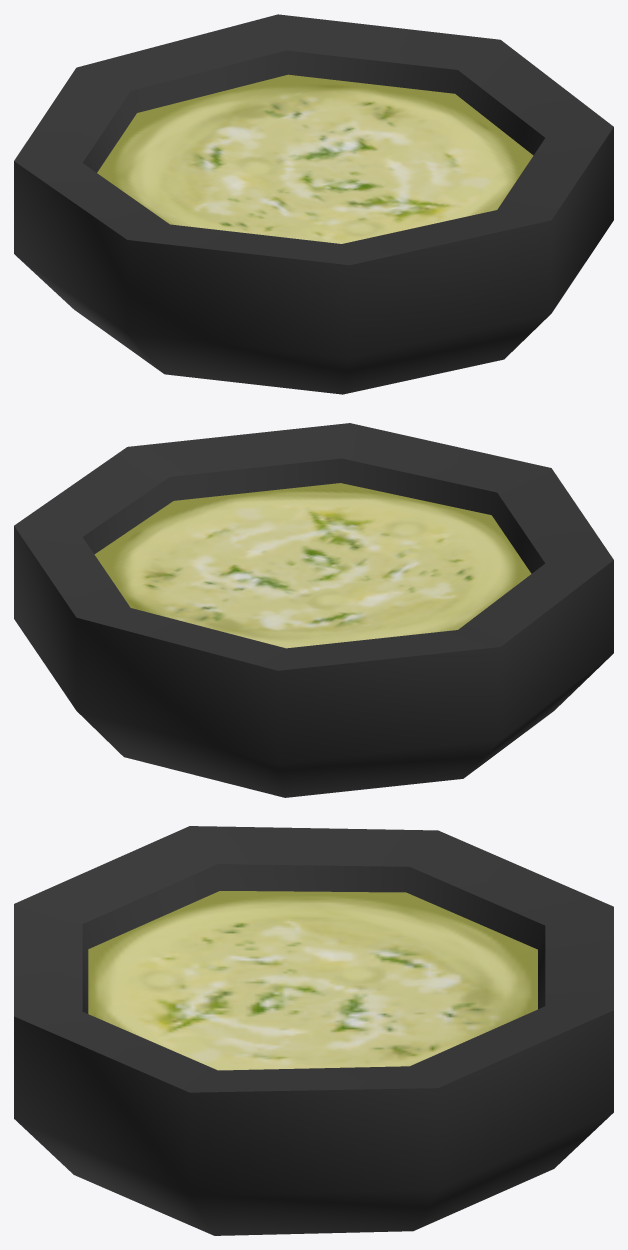
File: SM_PROP_bowl_wood_04.FBX
3 views of the same model, one above another, from view 1: azimuth 30°, elevation 25°; view 2: azimuth 150°, elevation 25°; view 3: azimuth 270°, elevation 25° (orthographic). The views are drawn at different scales.
Visible parts, largest first — view 1: SM_PROP_bowl_wood_04; view 2: SM_PROP_bowl_wood_04; view 3: SM_PROP_bowl_wood_04.
Boxes of the visible parts, bbox=[...] form: SM_PROP_bowl_wood_04: bbox=[14, 14, 613, 394]; SM_PROP_bowl_wood_04: bbox=[14, 423, 613, 797]; SM_PROP_bowl_wood_04: bbox=[14, 826, 613, 1235].
Size of the model in its own units: 27.69 by 26.96 by 10.16.
